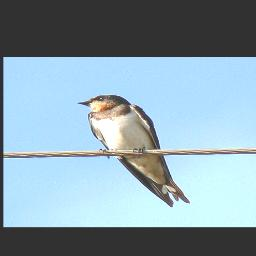Swallow: (75, 94, 191, 207)
